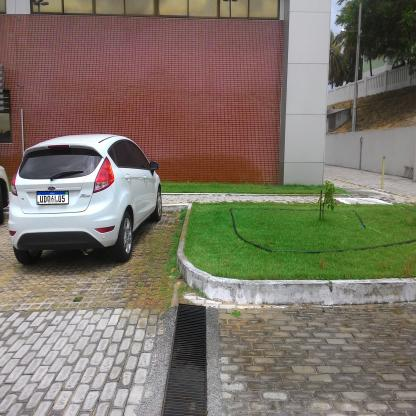PlacaM: (36, 190, 68, 204)
